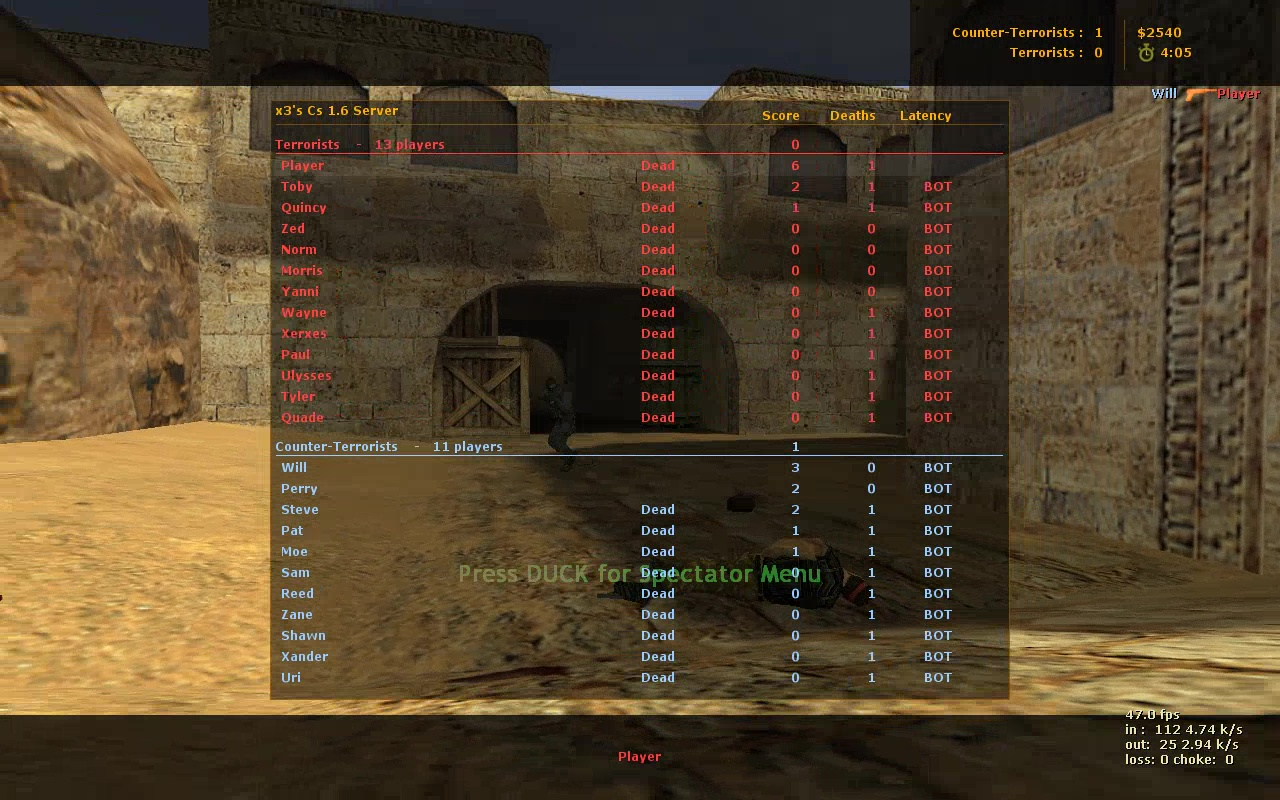ct: (543, 380, 581, 470)
dead: (612, 534, 871, 619)
